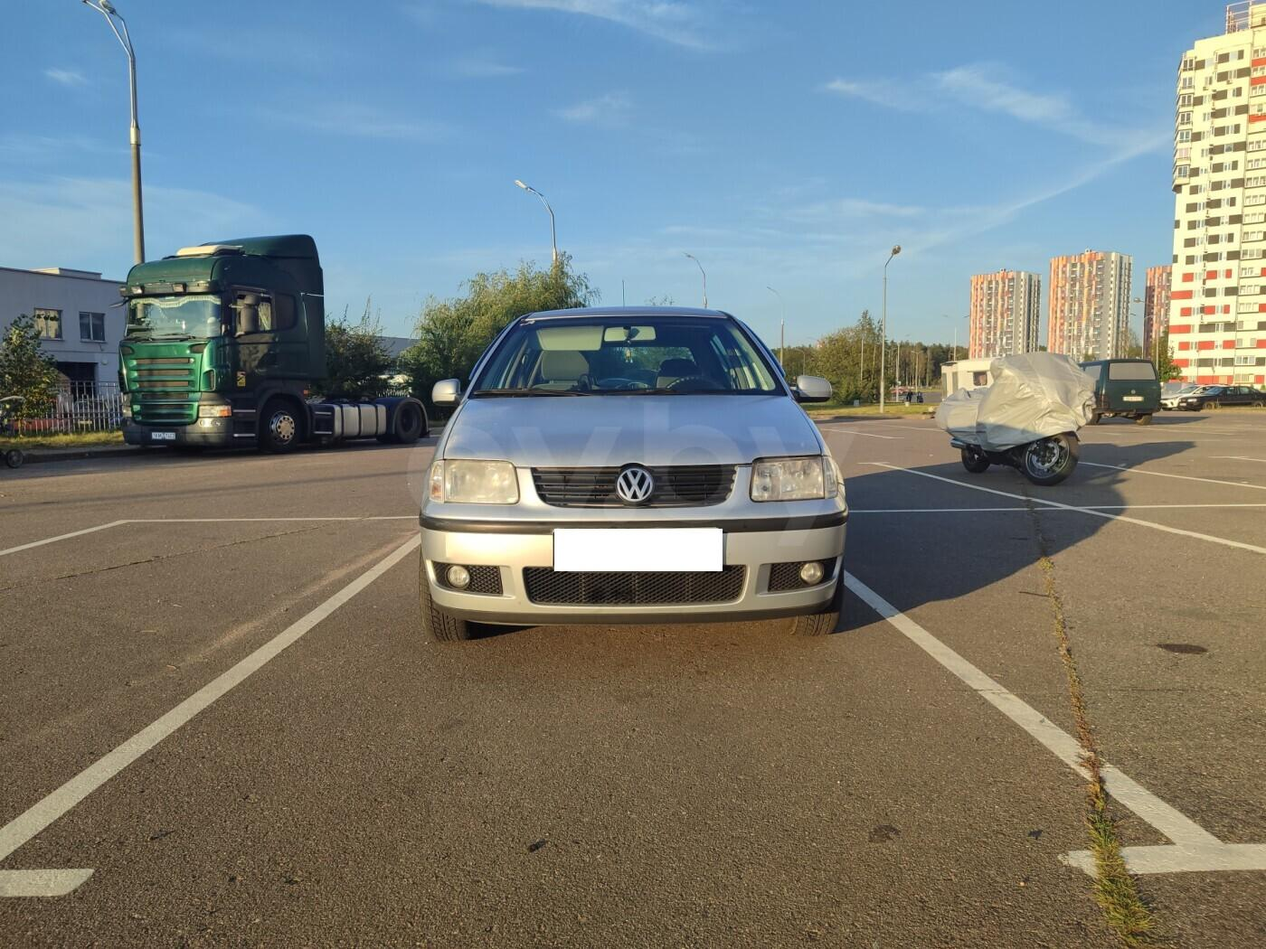Polo_2000-2002: (418, 295, 847, 657)
